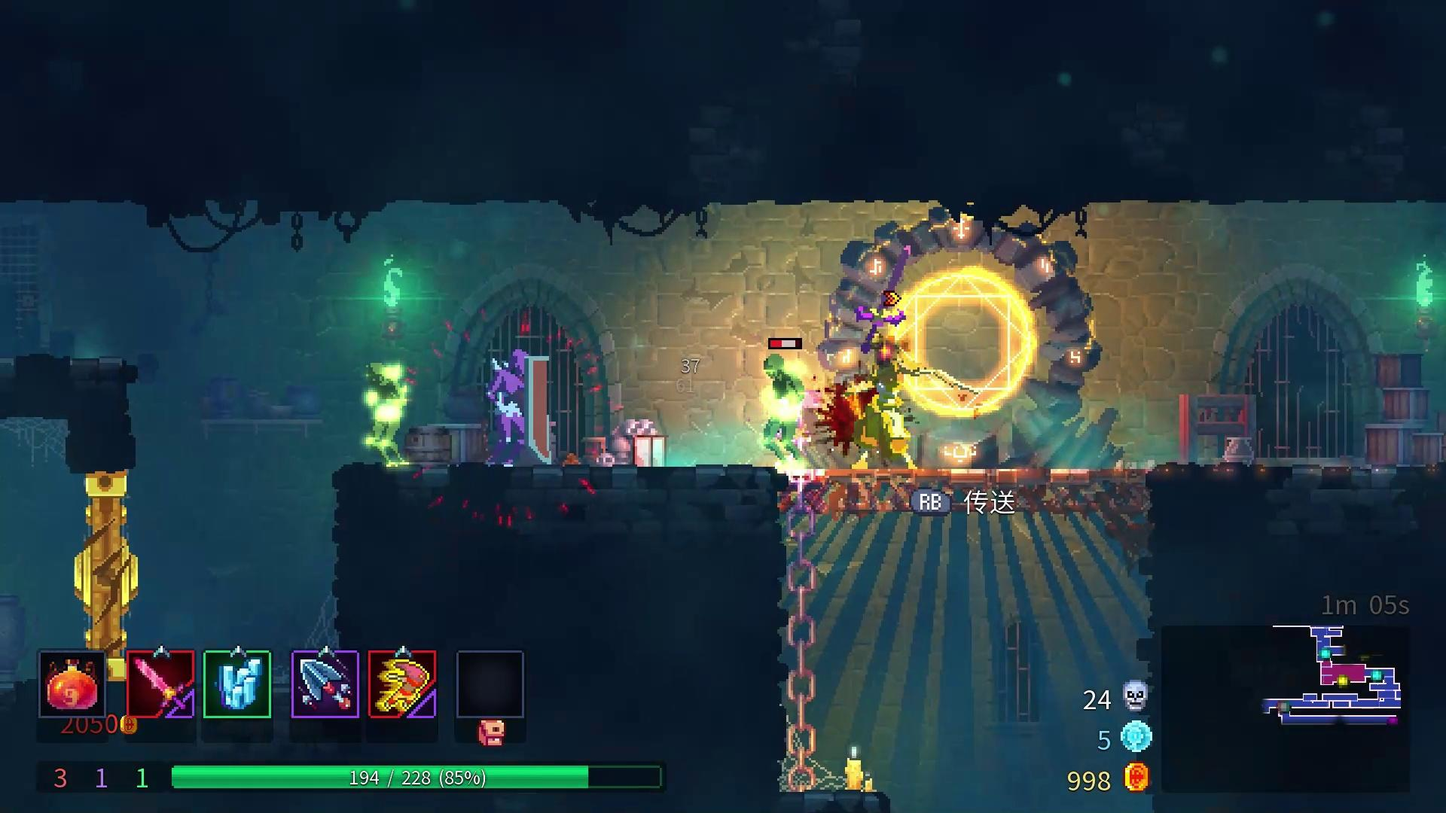door: (805, 205, 1109, 469)
gamer: (846, 328, 922, 472)
green1: (357, 353, 422, 470), (761, 348, 817, 466)
p1: (479, 342, 554, 468)
